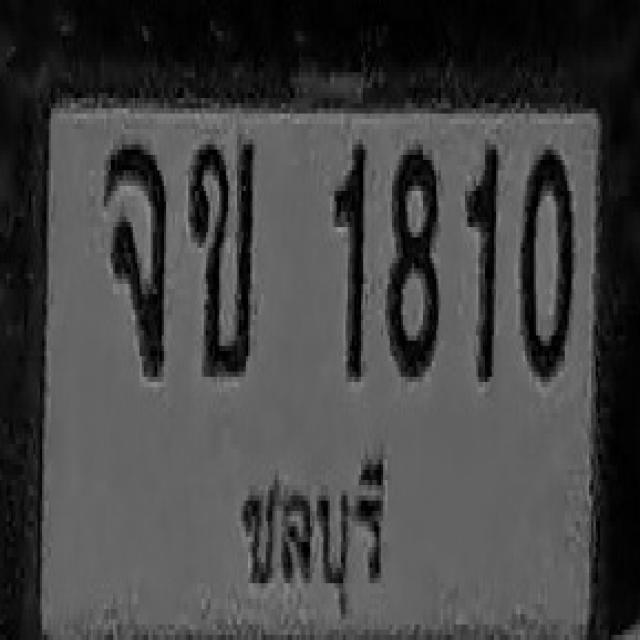0: (520, 144, 572, 377)
1: (465, 139, 498, 377), (334, 139, 366, 377)
11KhorKhai: (190, 137, 253, 374)
17ChorChan: (104, 137, 166, 374)
8: (388, 142, 438, 374)
Chonburi: (225, 425, 399, 619)
